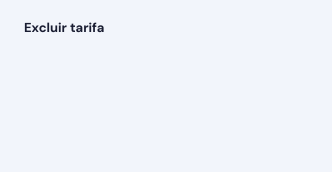
Test: ConfirmButton › dois passos: o primeiro clique só pede confirmação; Voltar desiste
The image size is (332, 172).
Click the button "Excluir tarifa" at (64, 28), box [12,12,116,44]
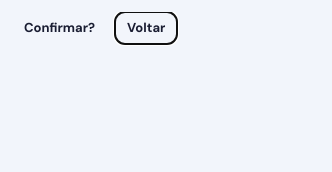
Expected: the button "Confirmar?" is shown, [12,12,107,44]
Click the button "Voltar" at (146, 28), box [115,12,177,44]
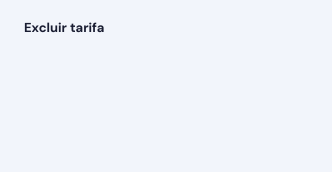
Expected: the button "Excluir tarifa" is shown
Click the button "Excluir tarifa" at (64, 28), box [12,12,116,44]
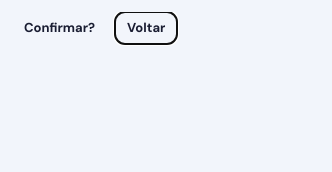
Click the button "Confirmar?" at (60, 28), box [12,12,107,44]
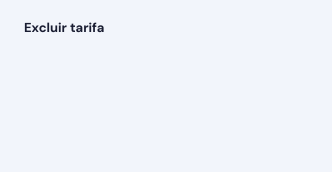
Expected: the button "Excluir tarifa" is shown, [12,12,116,44]
